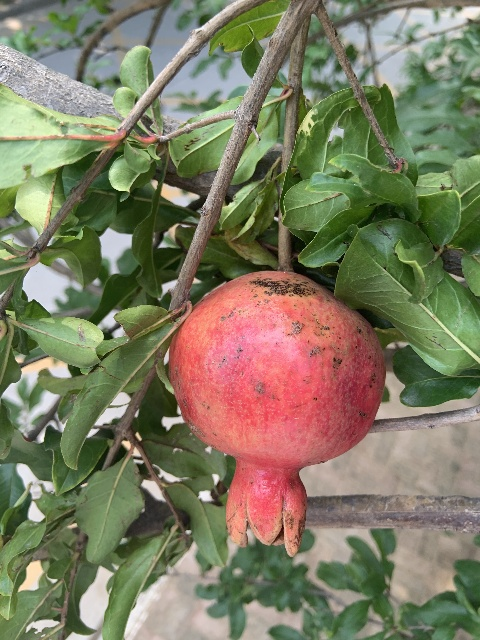ripe: (168, 271, 386, 557)
